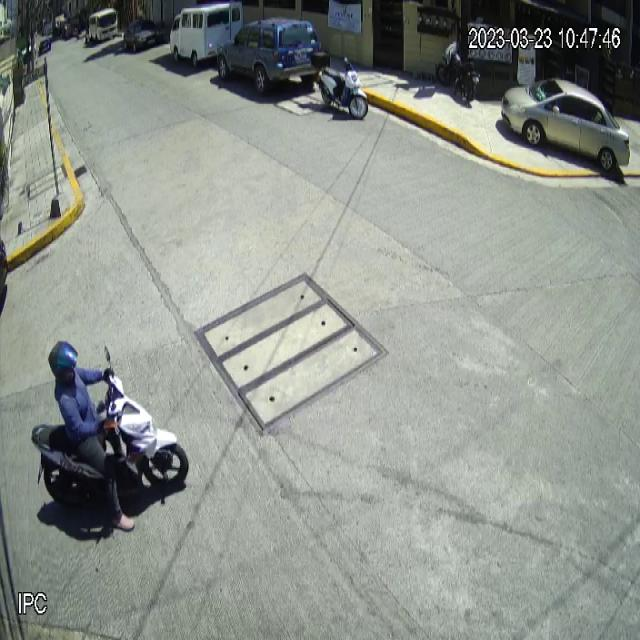Car: (500, 78, 630, 174), (218, 17, 324, 99)
Motorcycle: (31, 342, 191, 508), (312, 48, 369, 120)
Van: (170, 1, 245, 67)
